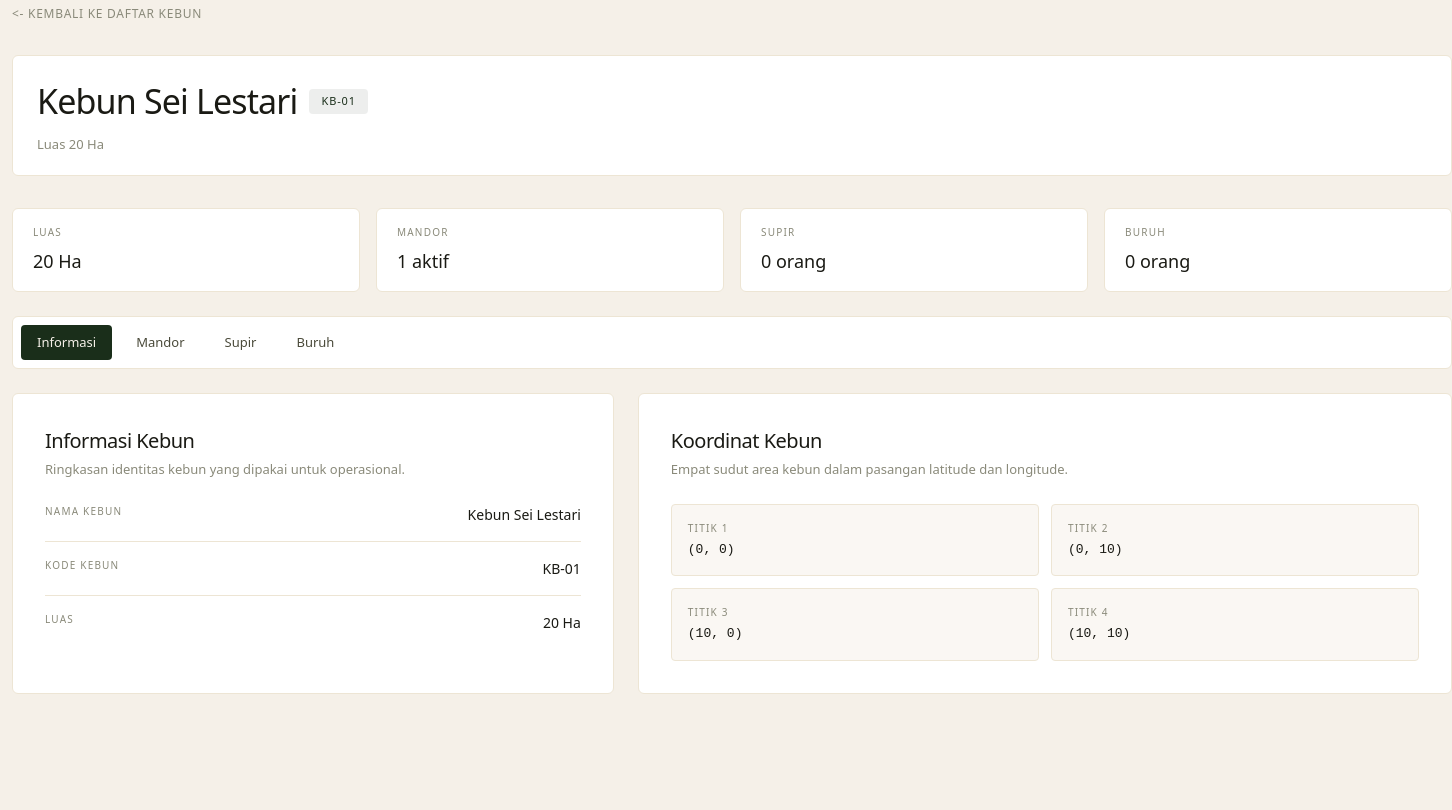
Test: KebunDetailPage › shows filtered empty states and list errors for supir and buruh
Click the button "Supir" at (240, 342), box [208,324,272,360]
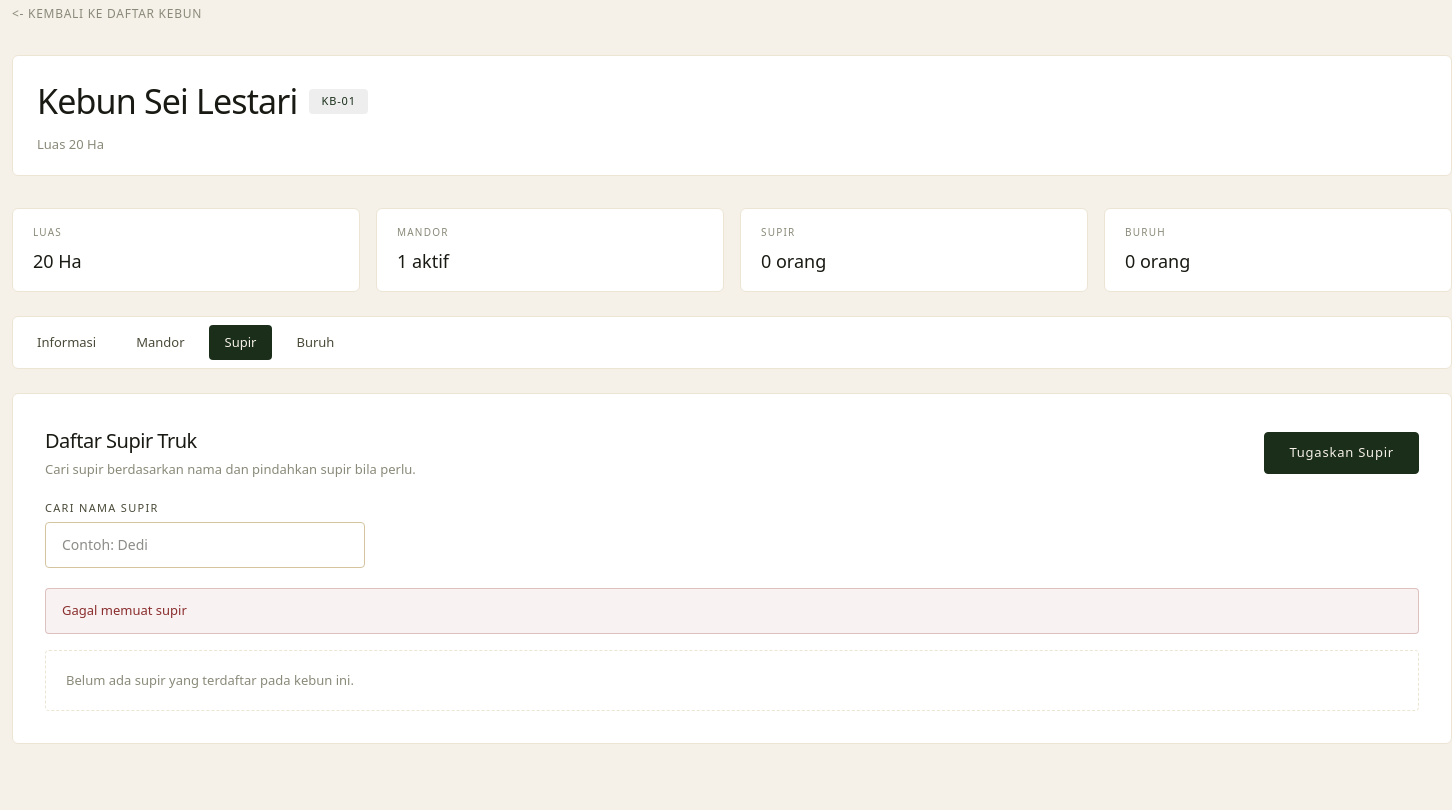
Type "Dedi" into the field with placeholder "Contoh: Dedi" at (205, 545), box [45,522,365,568]
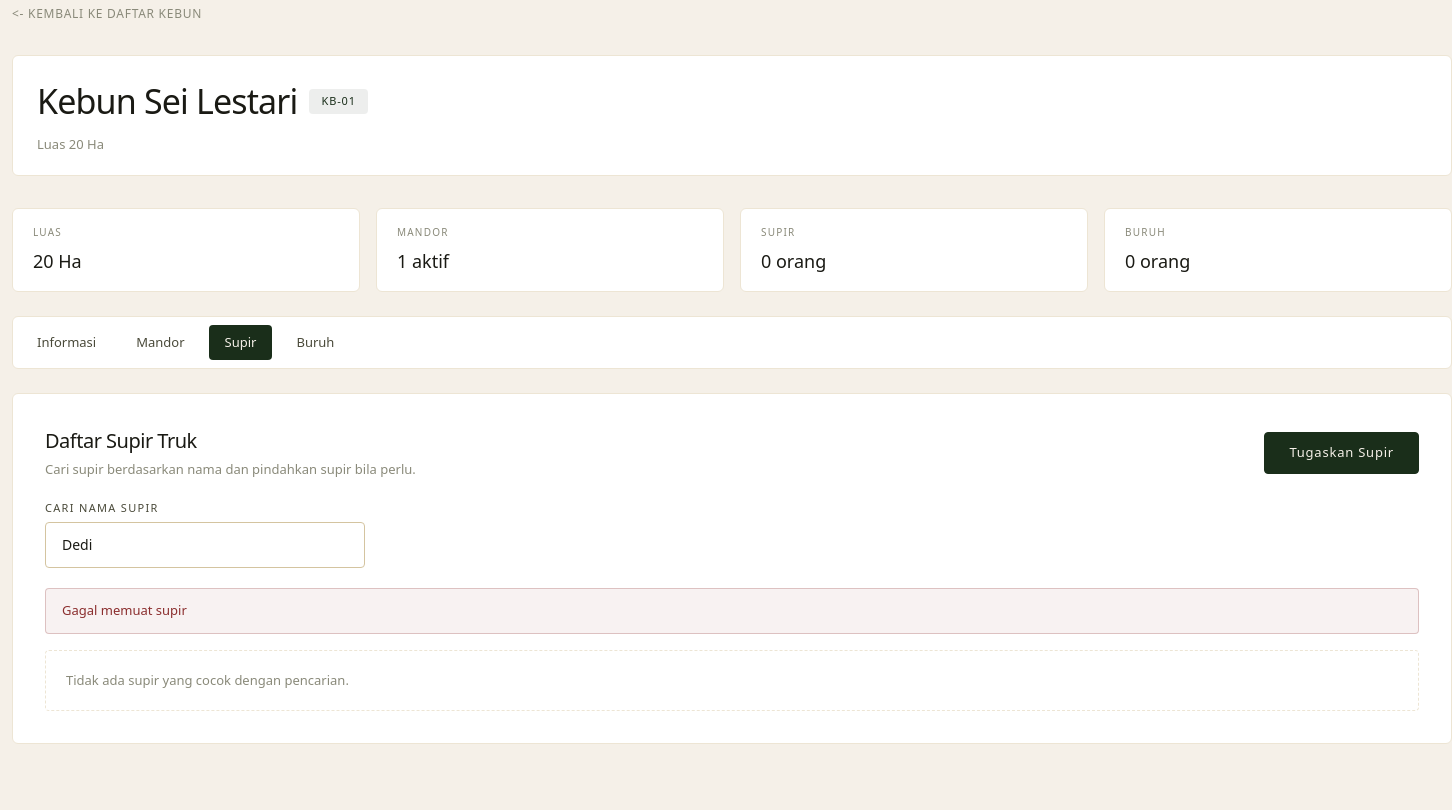
Expected: the text "Gagal memuat supir" is shown, [45,588,1419,634]
Expected: the text "Tidak ada supir yang cocok dengan pencarian." is shown, [45,650,1419,711]
Click the button "Buruh" at (315, 342), box [280,324,350,360]
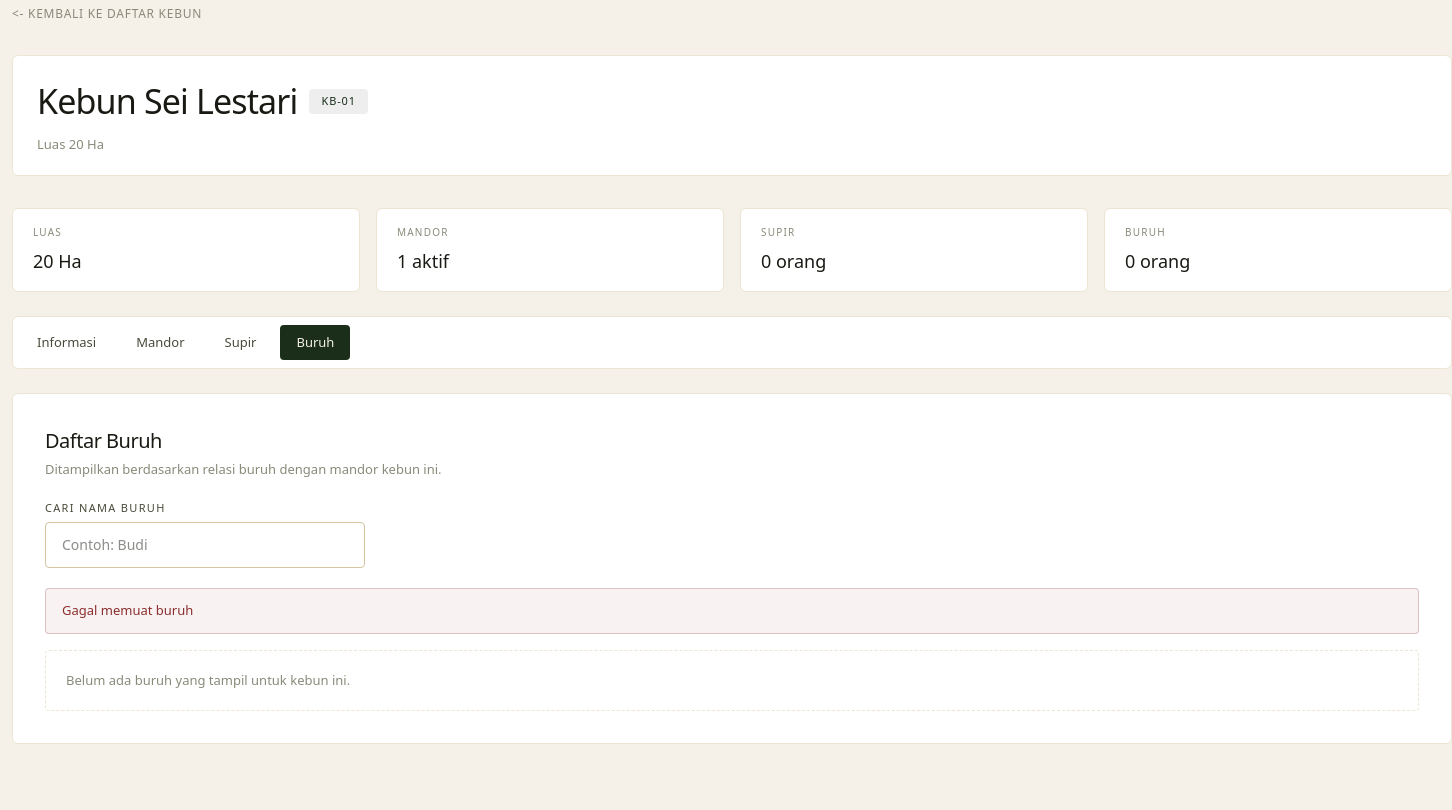
Type "Budi" into the field with placeholder "Contoh: Budi" at (205, 545), box [45,522,365,568]
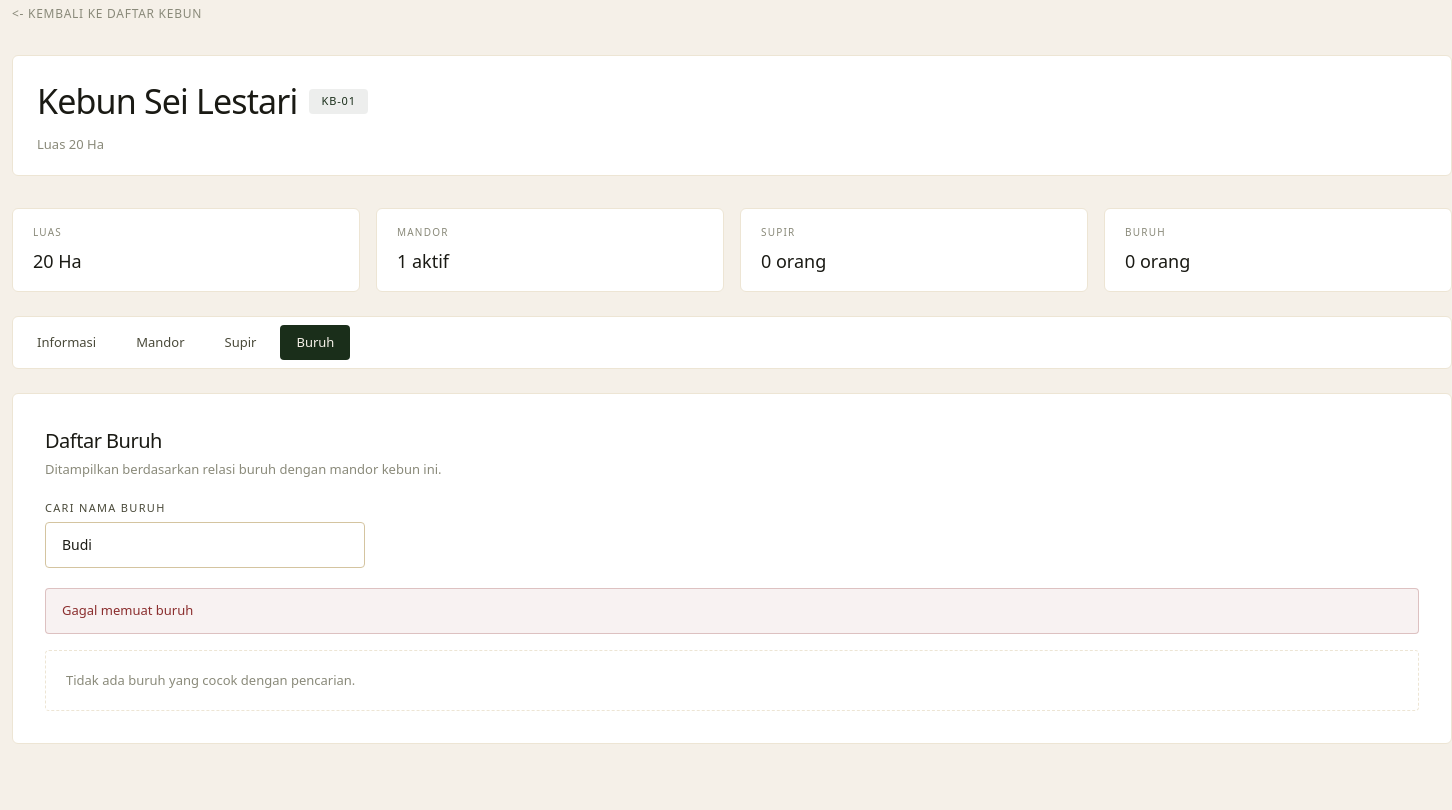
Expected: the text "Gagal memuat buruh" is shown, [45,588,1419,634]
Expected: the text "Tidak ada buruh yang cocok dengan pencarian." is shown, [45,650,1419,711]
